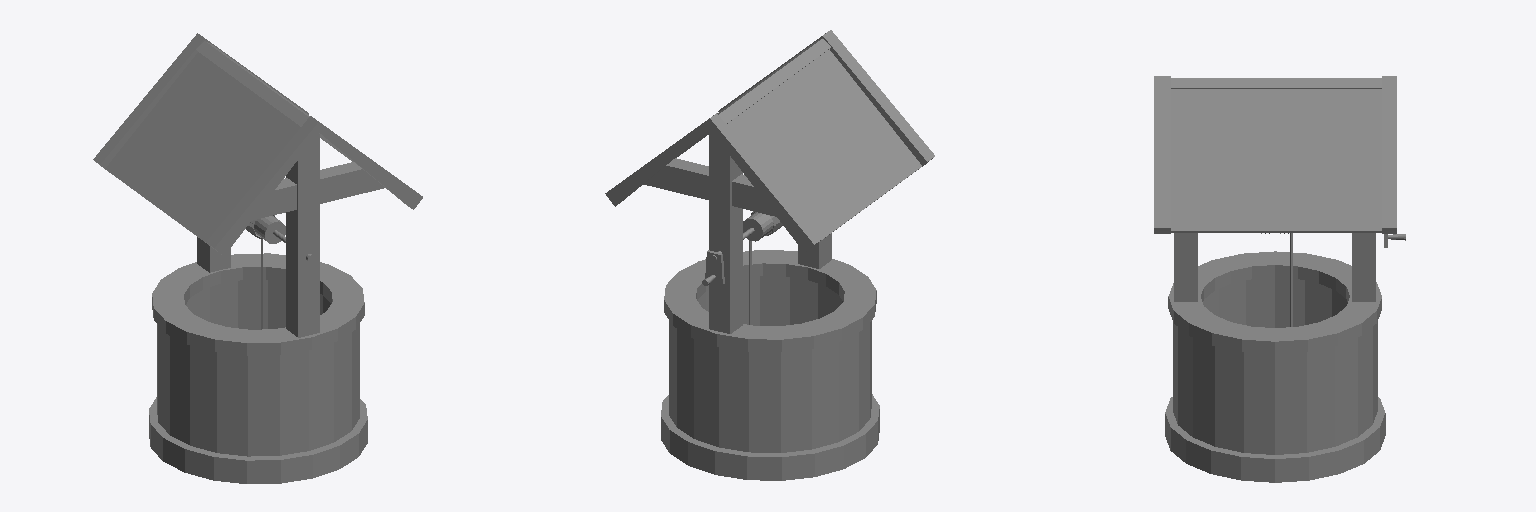
The model's file is pozo.obj.
3 views of the same model, side by side, from view 1: azimuth 30°, elevation 25°; view 2: azimuth 150°, elevation 25°; view 3: azimuth 270°, elevation 25° (orthographic).
Parts seen in each view (by area): view 1: polySurface5014; view 2: polySurface5014; view 3: polySurface5014.
Boxes of the visible parts, <box> form: polySurface5014: <box>93,33,422,483</box>; polySurface5014: <box>605,30,934,480</box>; polySurface5014: <box>1154,76,1405,482</box>.
Bounding box in the file's own units: 2.32 × 3.82 × 2.42.